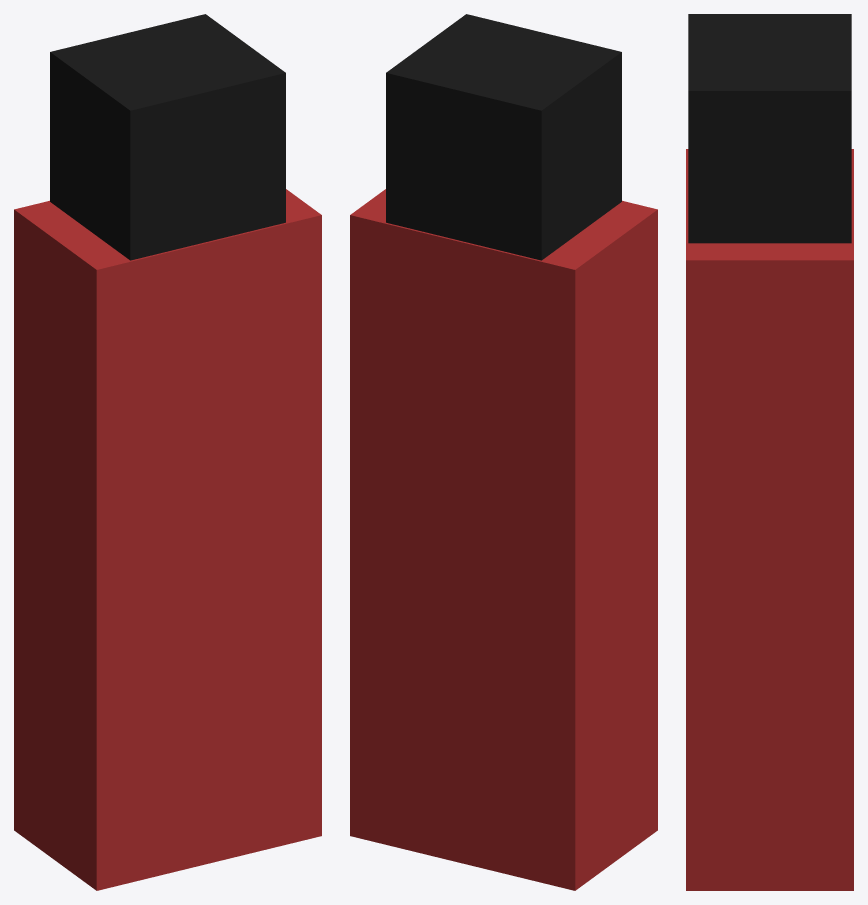
Rendered from ceez_placeholder.gltf.
3 views of the same model, side by side, from view 1: azimuth 30°, elevation 25°; view 2: azimuth 150°, elevation 25°; view 3: azimuth 270°, elevation 25° (orthographic).
Size of the model in its own units: 0.55 by 1.8 by 0.35.
